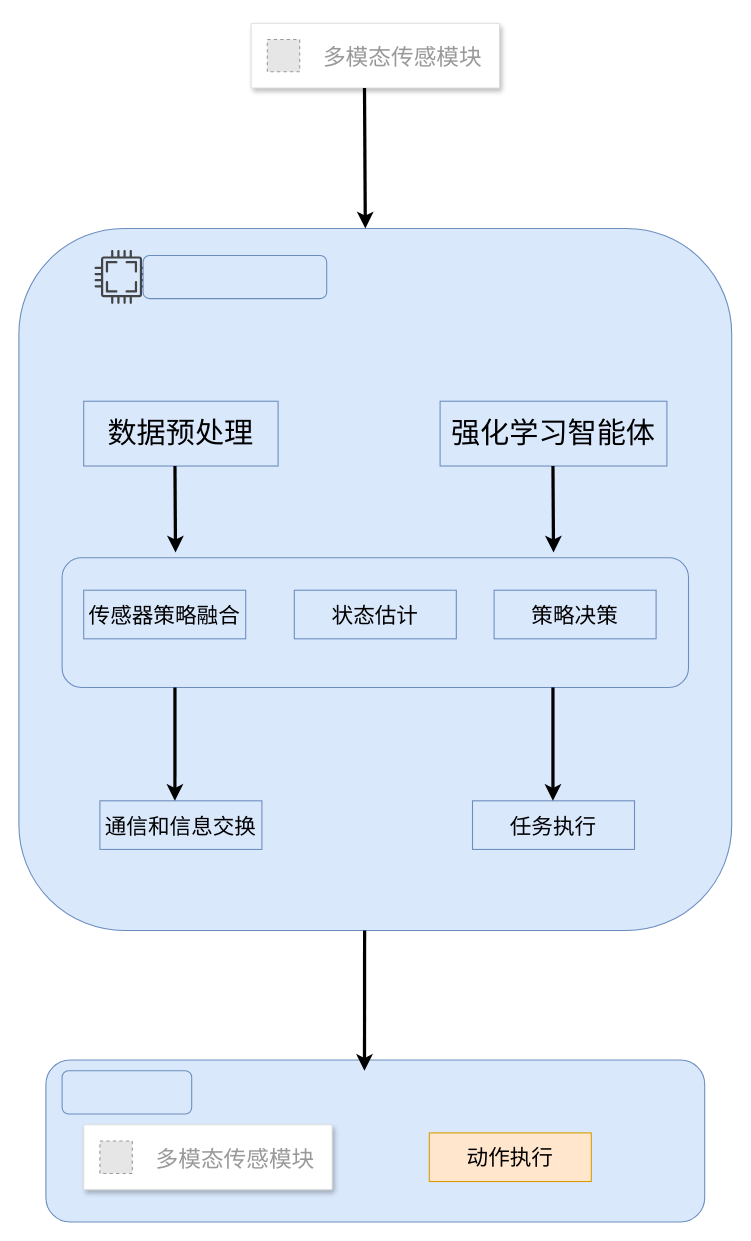
Some shapes in this 751 by 1241 pixel diagram are drawn without their labels. Grey dashed boxes stand in for pictures. The centre of each missing label's shape, as x and y in pixels:
"中央控制系统" goes at pixel 234 276.
"控制模块" goes at pixel 126 1092.
